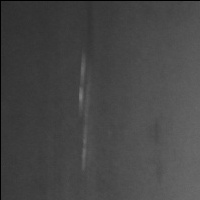inclusion: (148, 120, 163, 154)
scratches: (76, 50, 94, 171)
